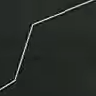hacks_2: (1, 1, 96, 92)
